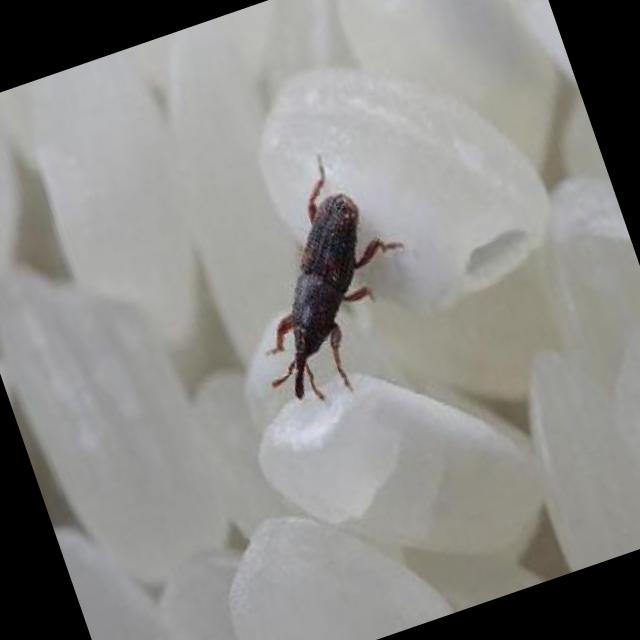rice-bug: (225, 149, 437, 408)
